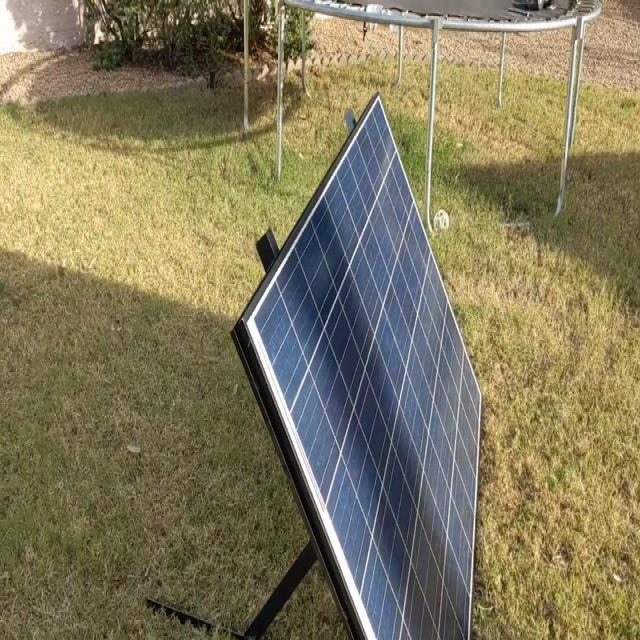Normal Solar Panel: (245, 98, 487, 640)
